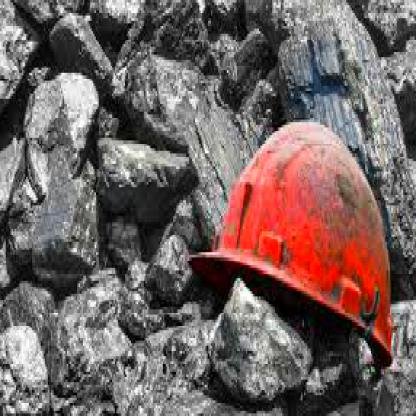Sedimentary_coal: (200, 271, 309, 396), (6, 177, 99, 286), (96, 127, 199, 216), (19, 70, 102, 180), (45, 8, 109, 88), (0, 319, 53, 414), (0, 5, 41, 112), (365, 348, 415, 414), (146, 226, 190, 291), (342, 330, 378, 390)
